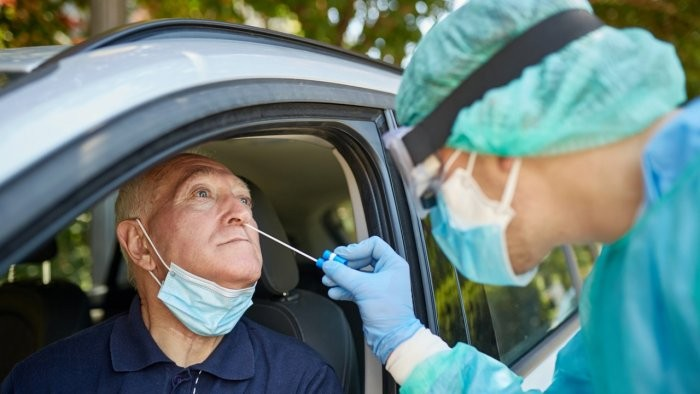Gloves: (320, 234, 425, 364)
Goggles: (376, 105, 449, 222)
mask_weared_incorrect: (161, 168, 261, 336)
with_mask: (419, 143, 521, 286)
